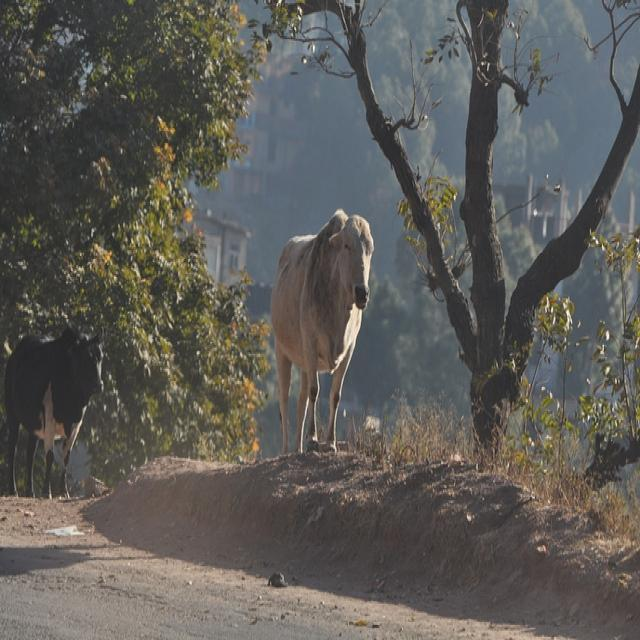cow: (267, 205, 375, 461), (4, 325, 103, 497)
